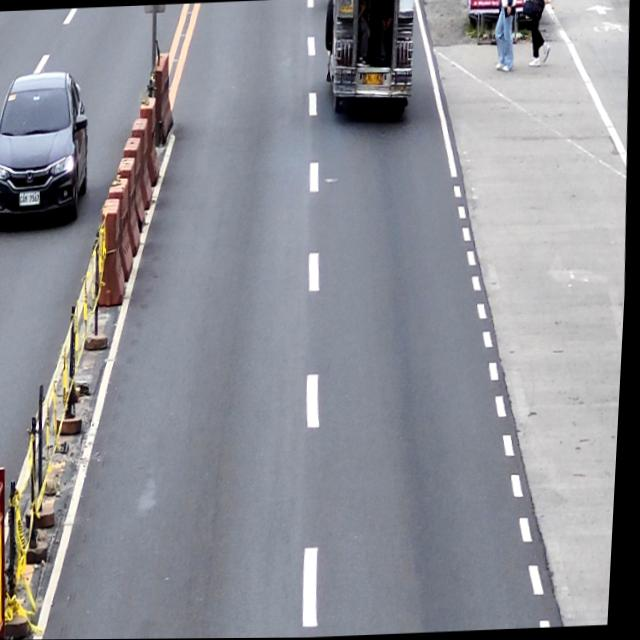Jeep: (319, 0, 419, 118)
License-Plate: (363, 73, 384, 86)
